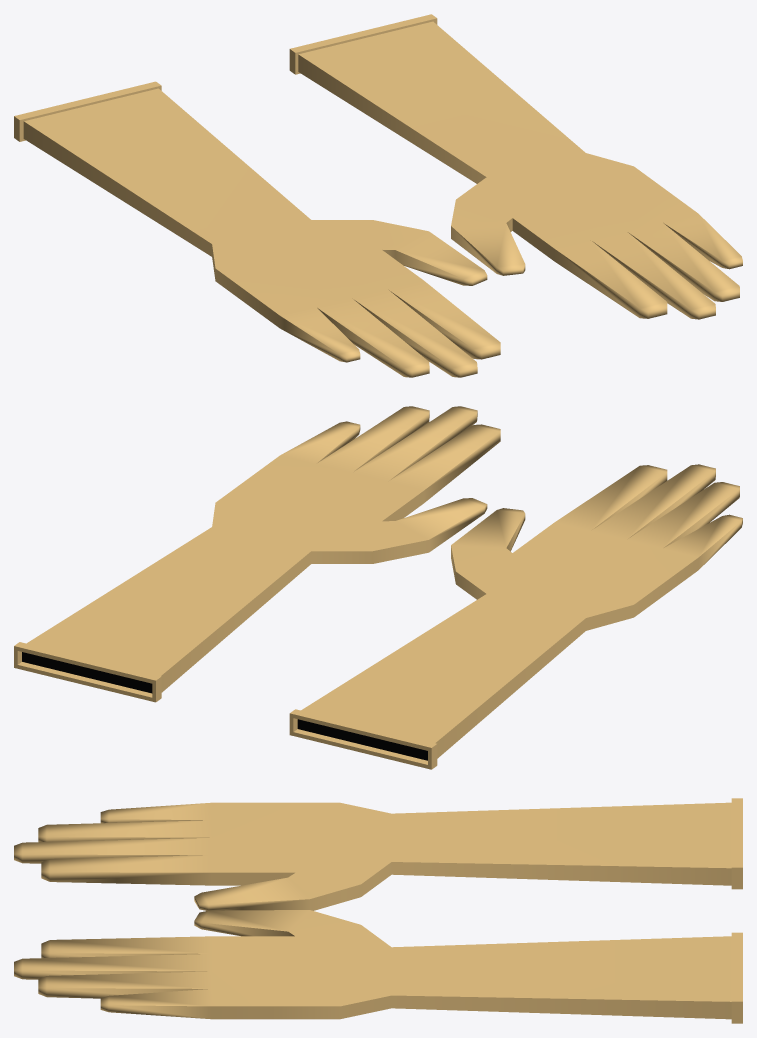
File: lab-gloves.glb
3 renders of one model, top to bottom at view 1: azimuth 30°, elevation 25°; view 2: azimuth 150°, elevation 25°; view 3: azimuth 270°, elevation 25°, orthographic.
Visible parts, largest first — view 1: ppe_rubber_gloves.003; view 2: ppe_rubber_gloves.003; view 3: ppe_rubber_gloves.003.
Part boxes in pixels (box(x1,y1,x2,y2)): ppe_rubber_gloves.003: box(14, 14, 742, 377); ppe_rubber_gloves.003: box(14, 406, 742, 769); ppe_rubber_gloves.003: box(14, 798, 742, 1023).
Size of the model in its own units: 19.05 by 0.9499 by 28.82.
1 material, 1 textured.
